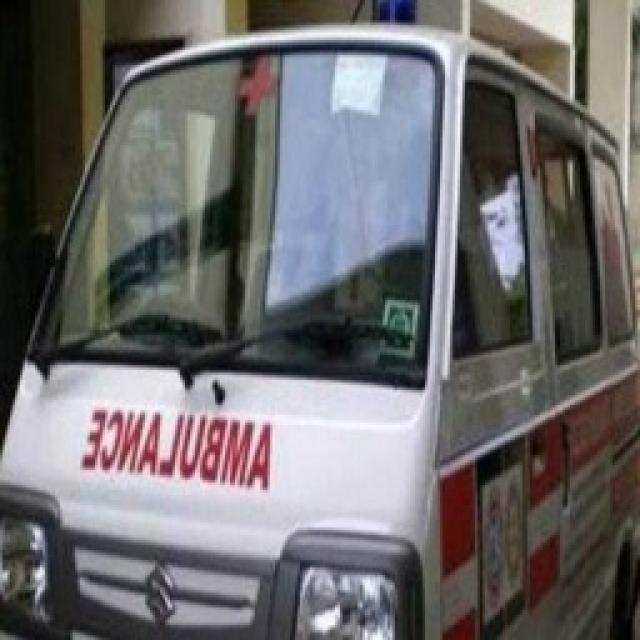ambulance: (0, 8, 638, 638)
